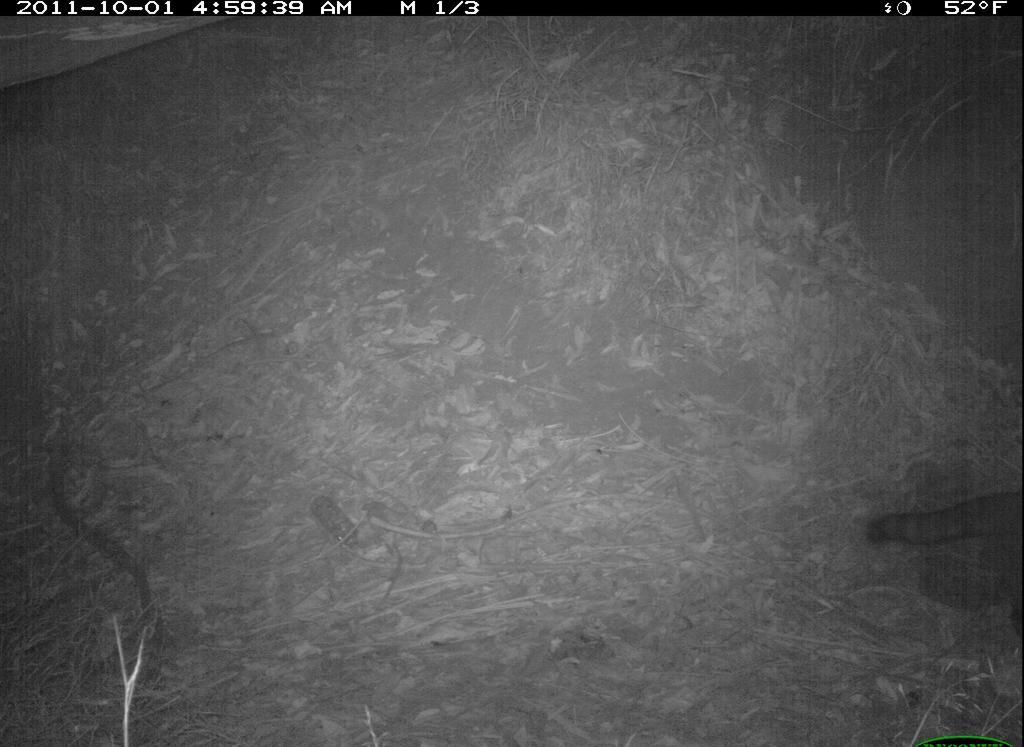raccoon: (867, 474, 1021, 593)
